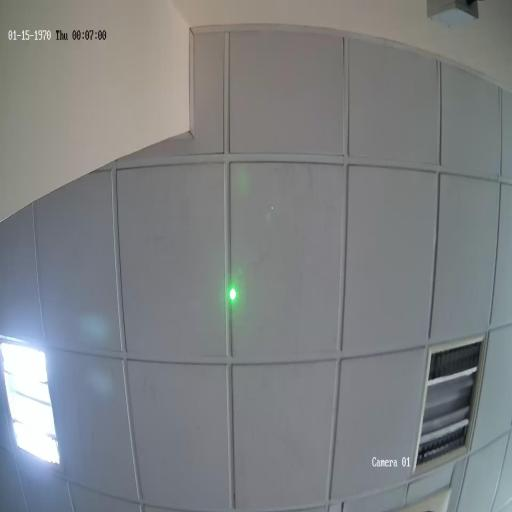laser: (228, 287, 237, 302)
